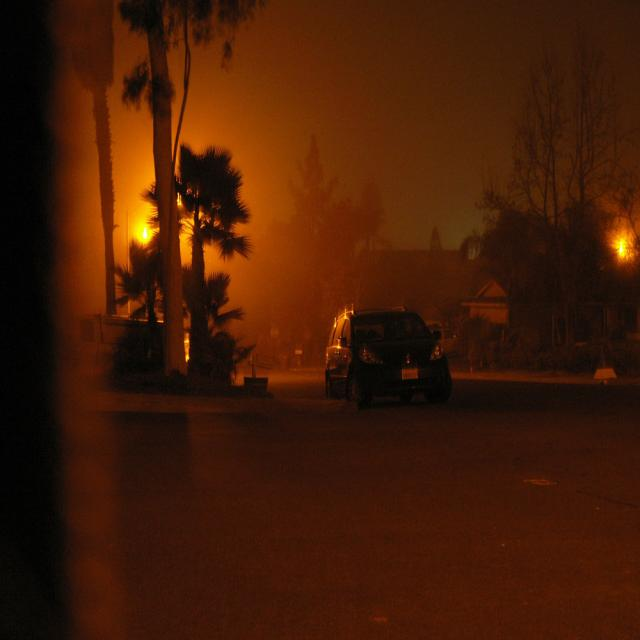Car: (273, 284, 462, 443)
